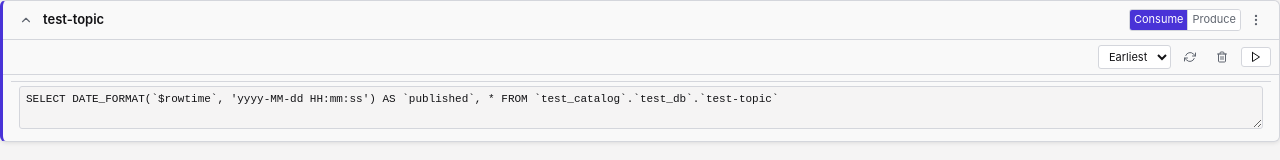
Test case: [@stream-card-coverage] StreamCard Coverage › [@stream-card-coverage] Live Auto-Refresh › Live button starts auto-refresh
Click the button named "Start live streaming" at [1256, 57], box [1241, 47, 1271, 67]
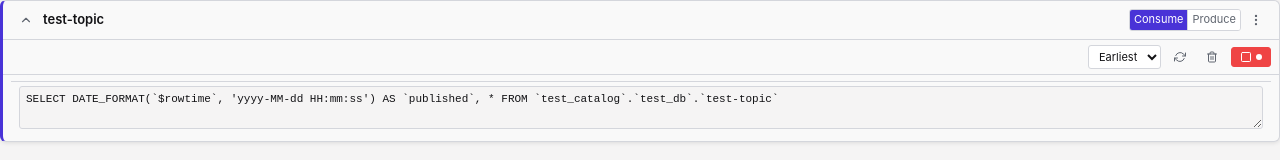
Result: the button named "Stop live streaming" is shown at [1231, 47, 1271, 67]
